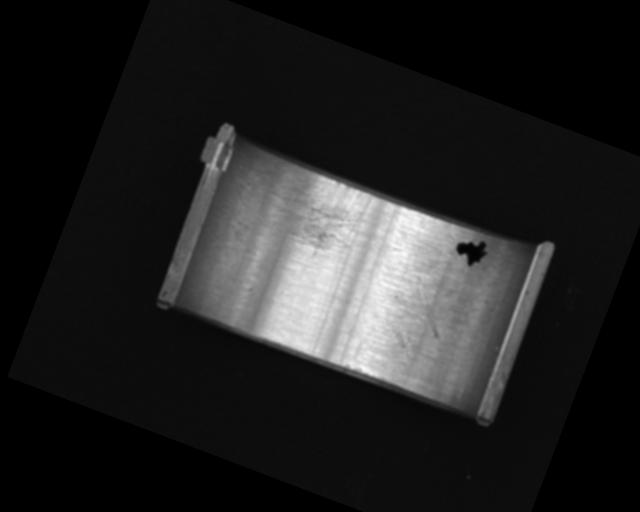blot: (450, 232, 492, 272)
bruise: (389, 328, 418, 358)
nick: (400, 276, 457, 339)
scratch: (237, 152, 375, 270)
